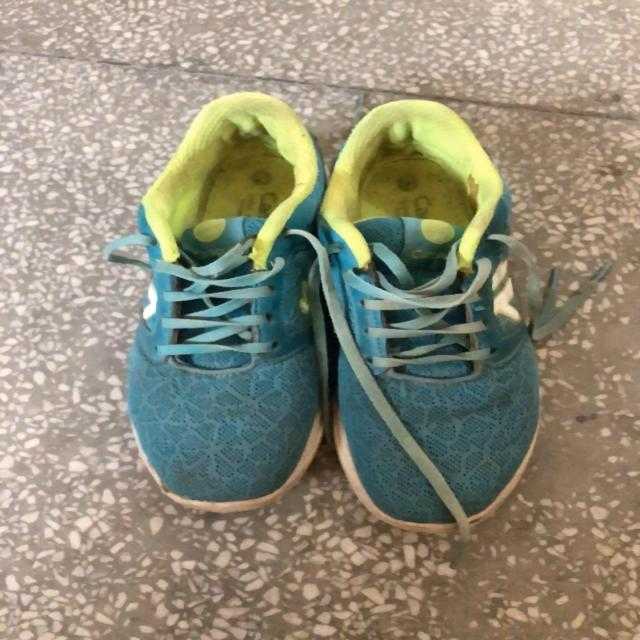shoe: (320, 98, 544, 543), (104, 93, 327, 518)
